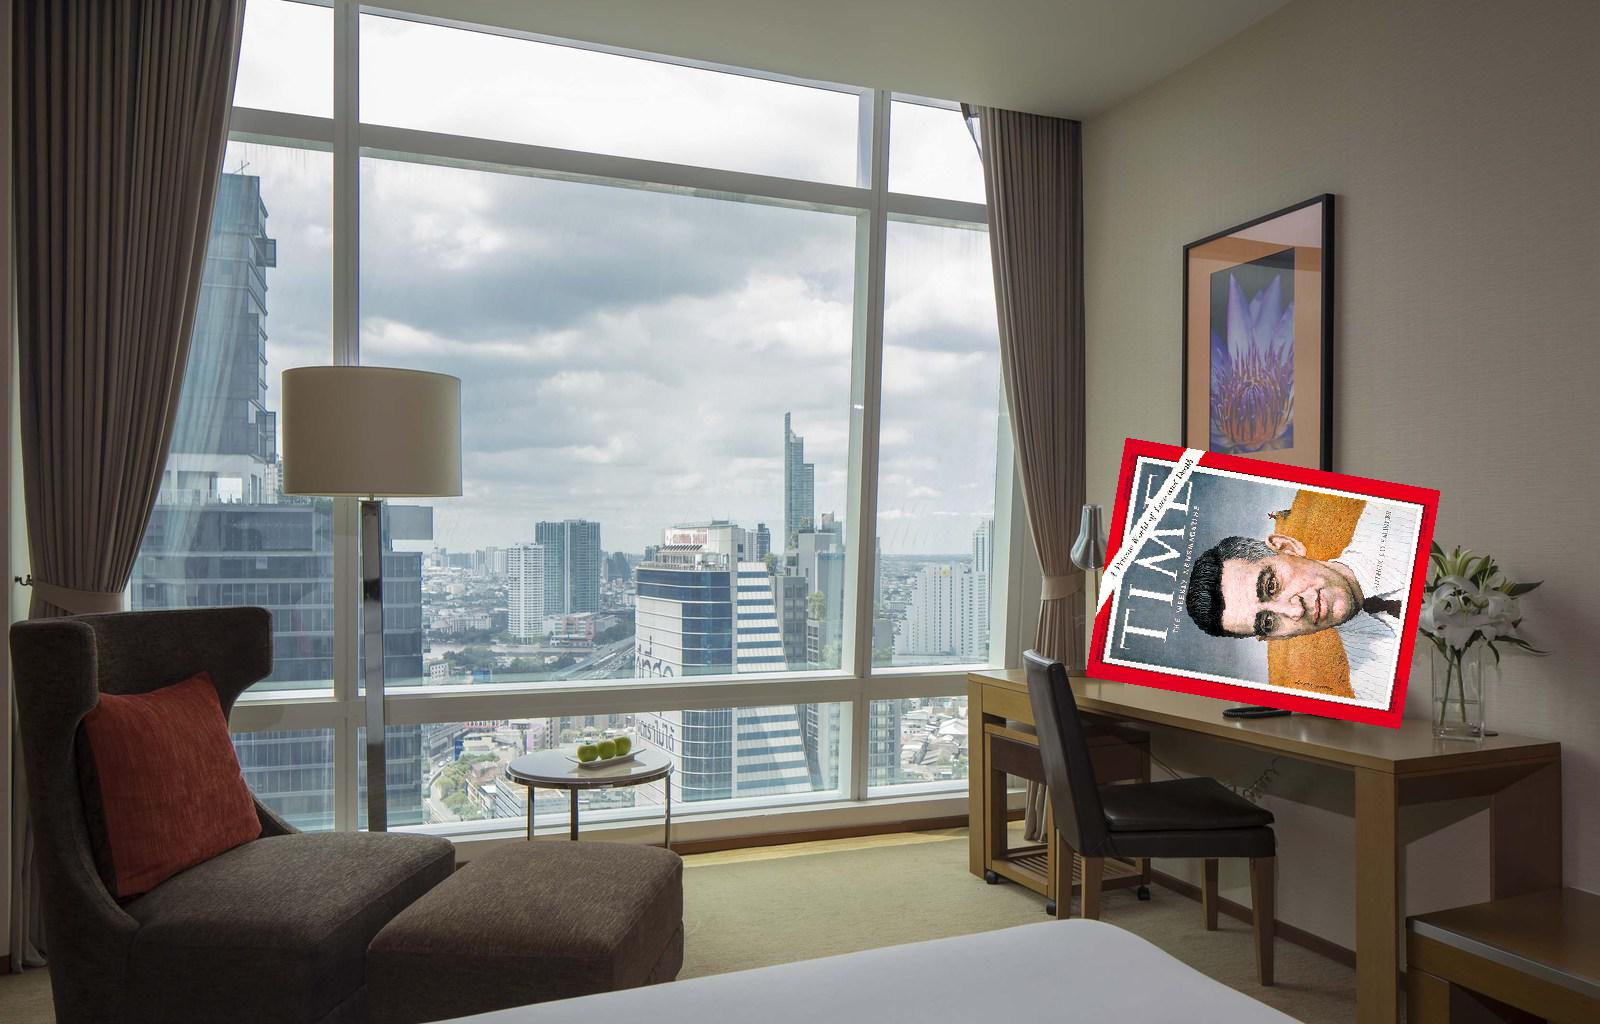times: (1083, 435, 1438, 732)
